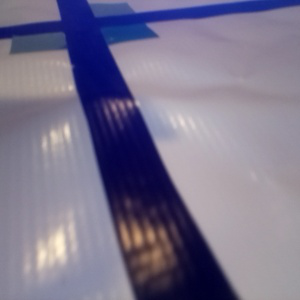bottom_left: (10, 26, 100, 54)
bottom_right: (66, 17, 159, 44)
top_right: (61, 3, 134, 25)
